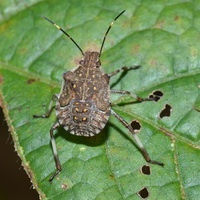insect: (33, 10, 163, 181)
